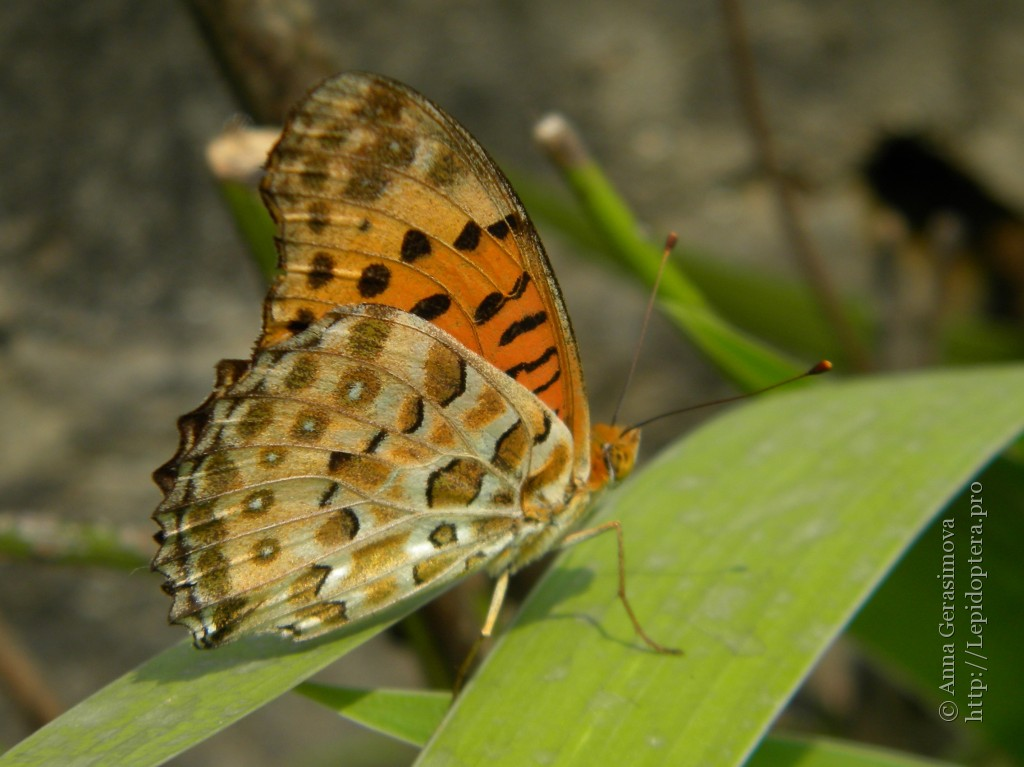Argyreus hyperbius: (139, 64, 837, 662)
butterfly: (141, 66, 839, 664)
